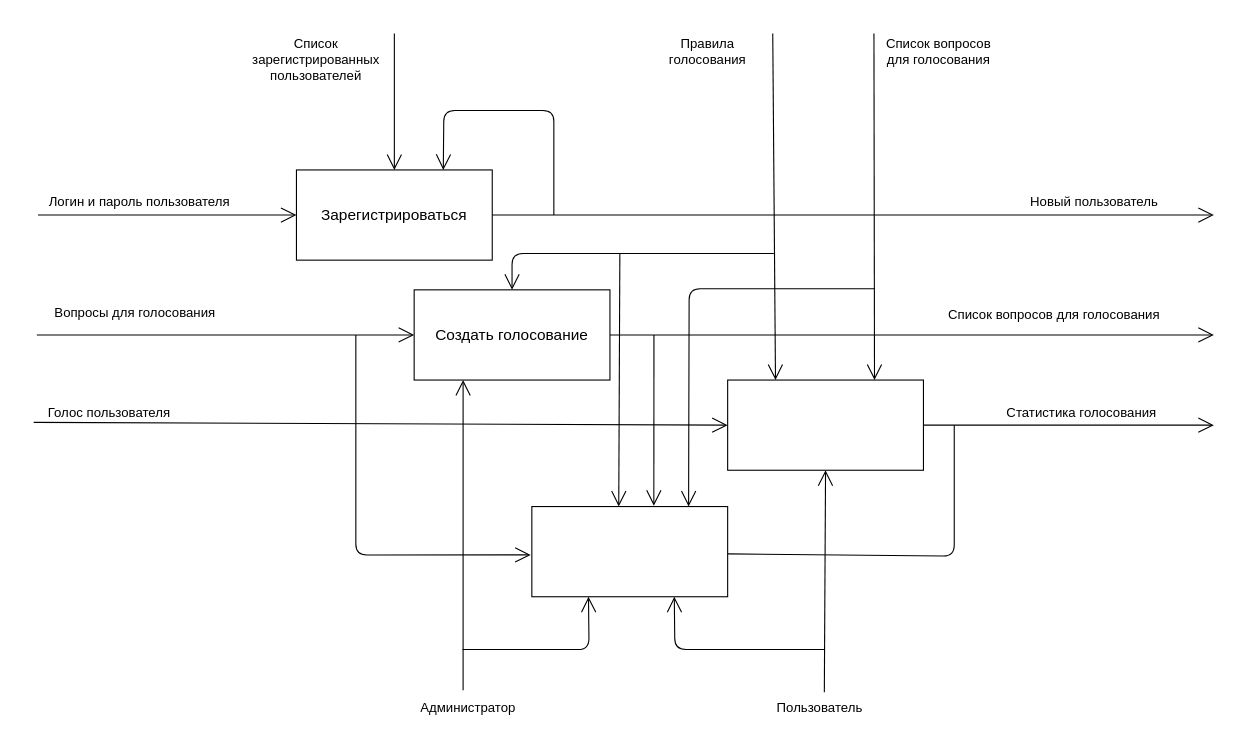
This 1249x744 diagram has some shape labels left out. The shapes that lost their labels are listed below. From the top down, each one's centre as x and y in pixels, then its label:
At pixel 825 424: "Проголосовать".
At pixel 629 551: "Просмотреть информацию о голосовании".
